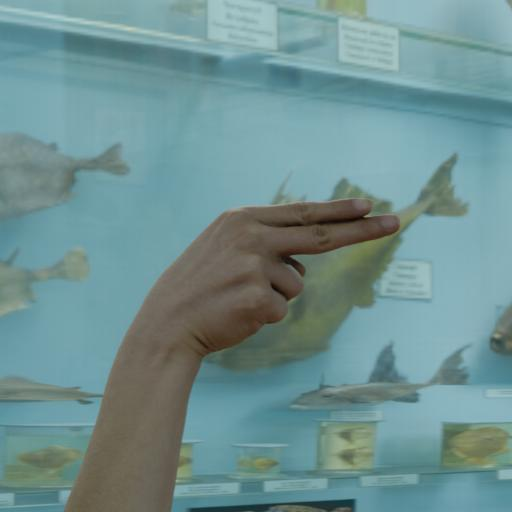H: (148, 200, 426, 365)
